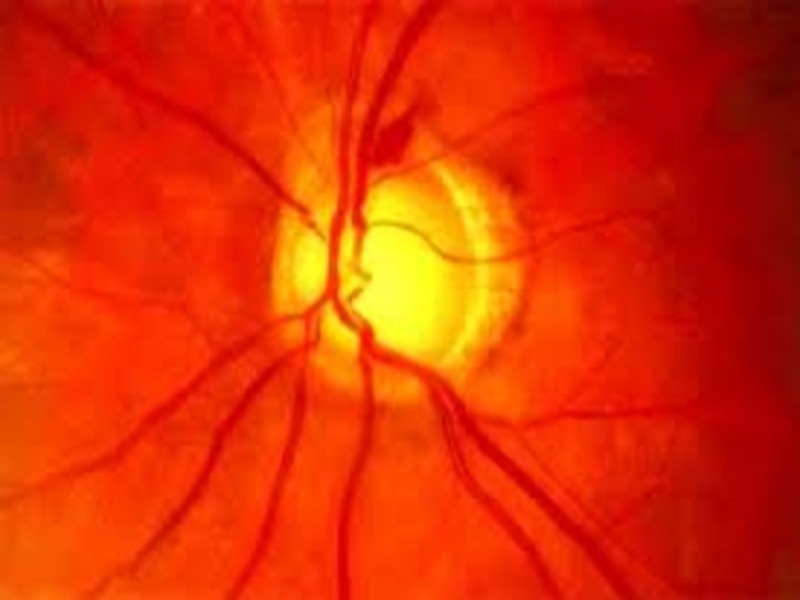Optic Cup: (296, 193, 448, 360)
Optic Disc: (259, 106, 535, 400)
